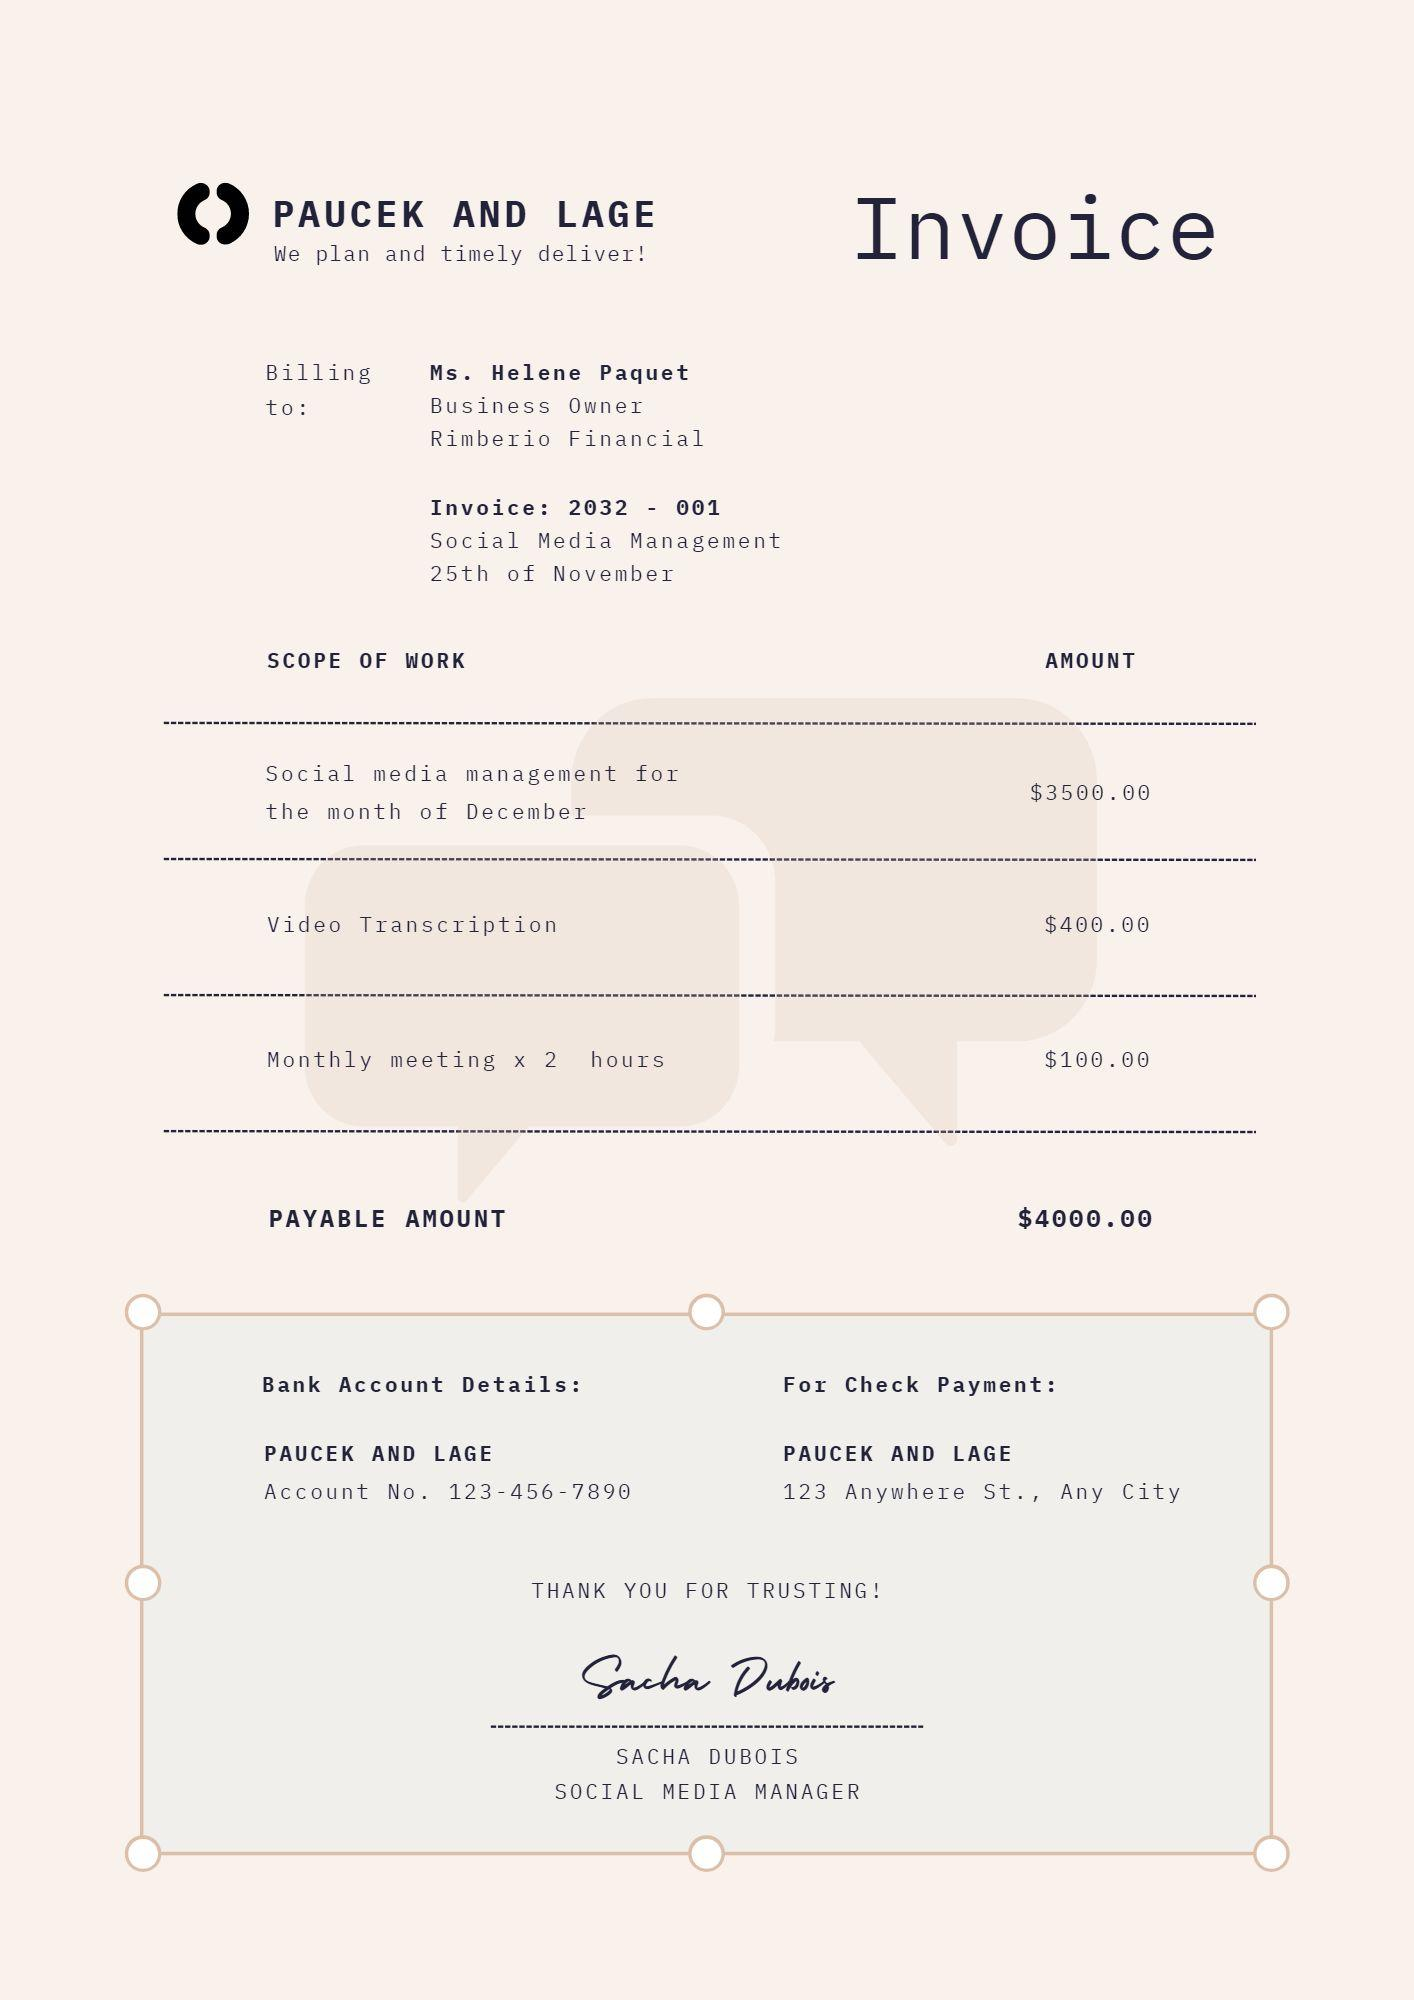ROI: (230, 620, 1236, 1262)
